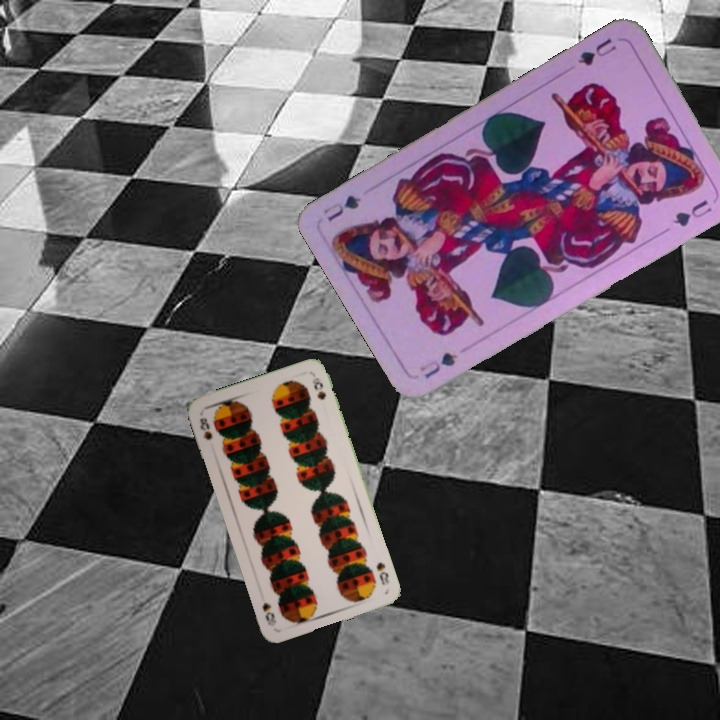GU: (573, 34, 619, 69), (415, 348, 460, 381)
S8: (196, 413, 215, 443), (372, 558, 391, 587)
